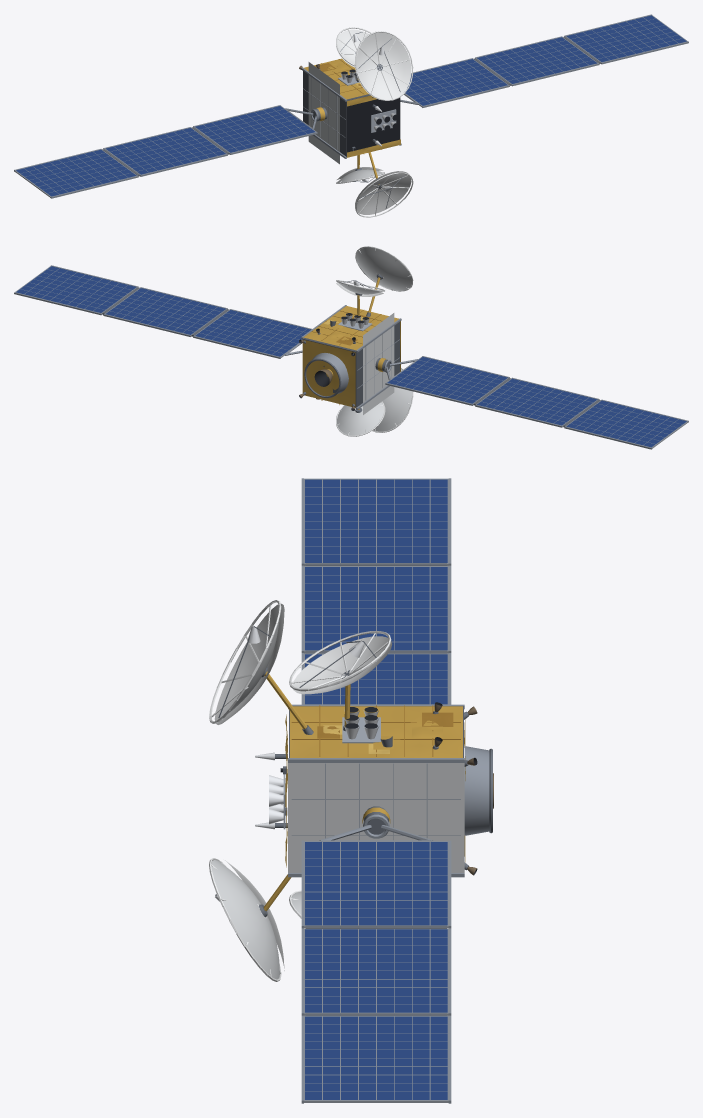
Rendered from bus-i3k.glb.
The picture shows the model from 3 angles, top to bottom: view 1: azimuth 30°, elevation 25°; view 2: azimuth 150°, elevation 25°; view 3: azimuth 270°, elevation 25°; orthographic projection. The views are drawn at different scales.
Visible parts, largest first — view 1: body, solar-panel, foil; view 2: solar-panel, body, foil; view 3: solar-panel, body, foil.
Boxes of the visible parts, box(x1,y1,x2,y2) form: body: box(14, 14, 688, 217); solar-panel: box(16, 15, 686, 196); foil: box(304, 58, 400, 185); solar-panel: box(16, 266, 686, 447); body: box(14, 246, 688, 449); foil: box(302, 277, 400, 409); solar-panel: box(305, 479, 447, 1099); body: box(209, 478, 493, 1103); foil: box(263, 671, 465, 911).
Bounding box in the file's own units: 20.02 × 5.55 × 3.88.
